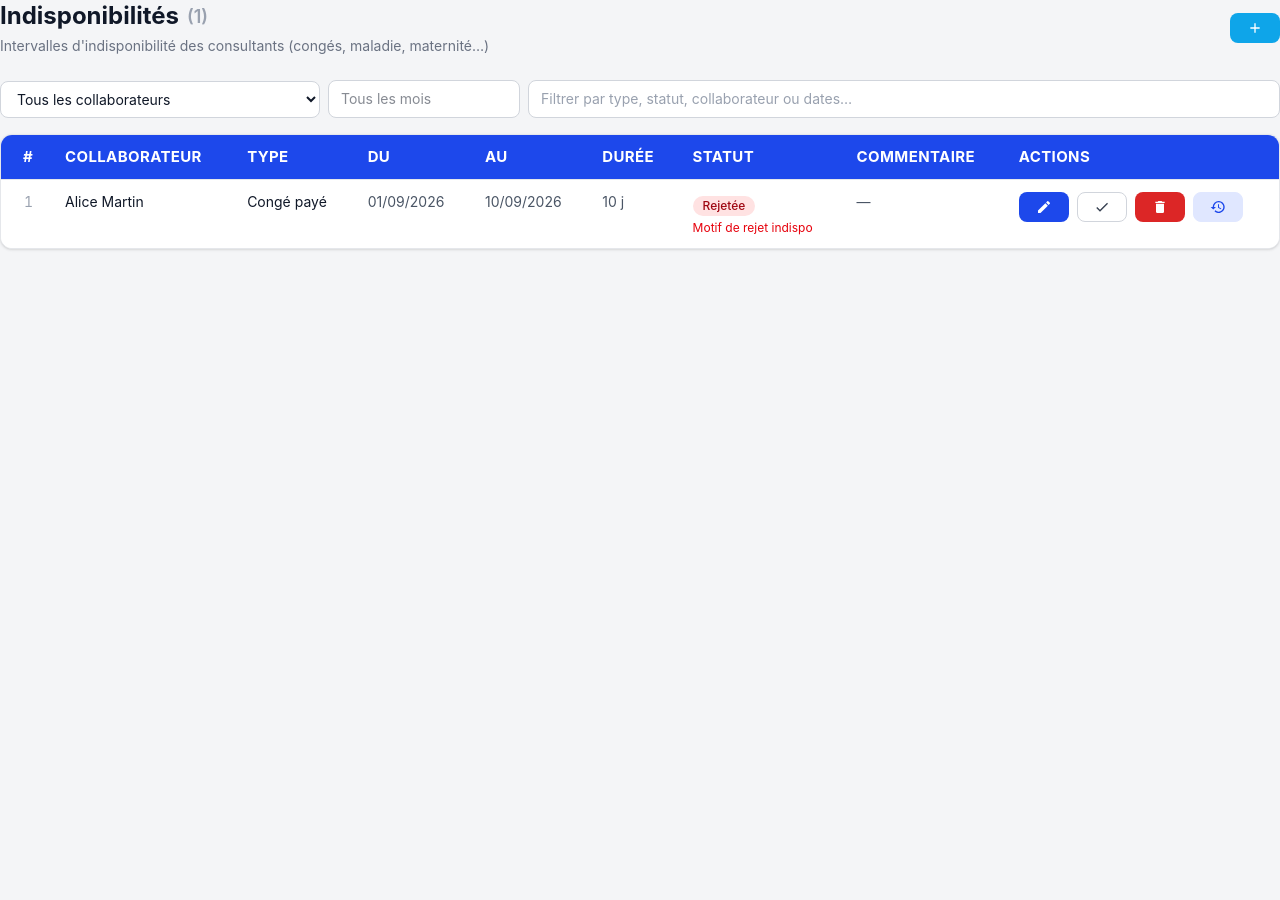
Test: Unavailability › affiche le motif de rejet lorsqu’on ouvre une indisponibilité rejetée
The width and height of the screenshot is (1280, 900).
What coordinates should you click on to do the following:
click the text "Alice Martin"
I would click on:
 (104, 201)
Its box is [49,180,231,248].
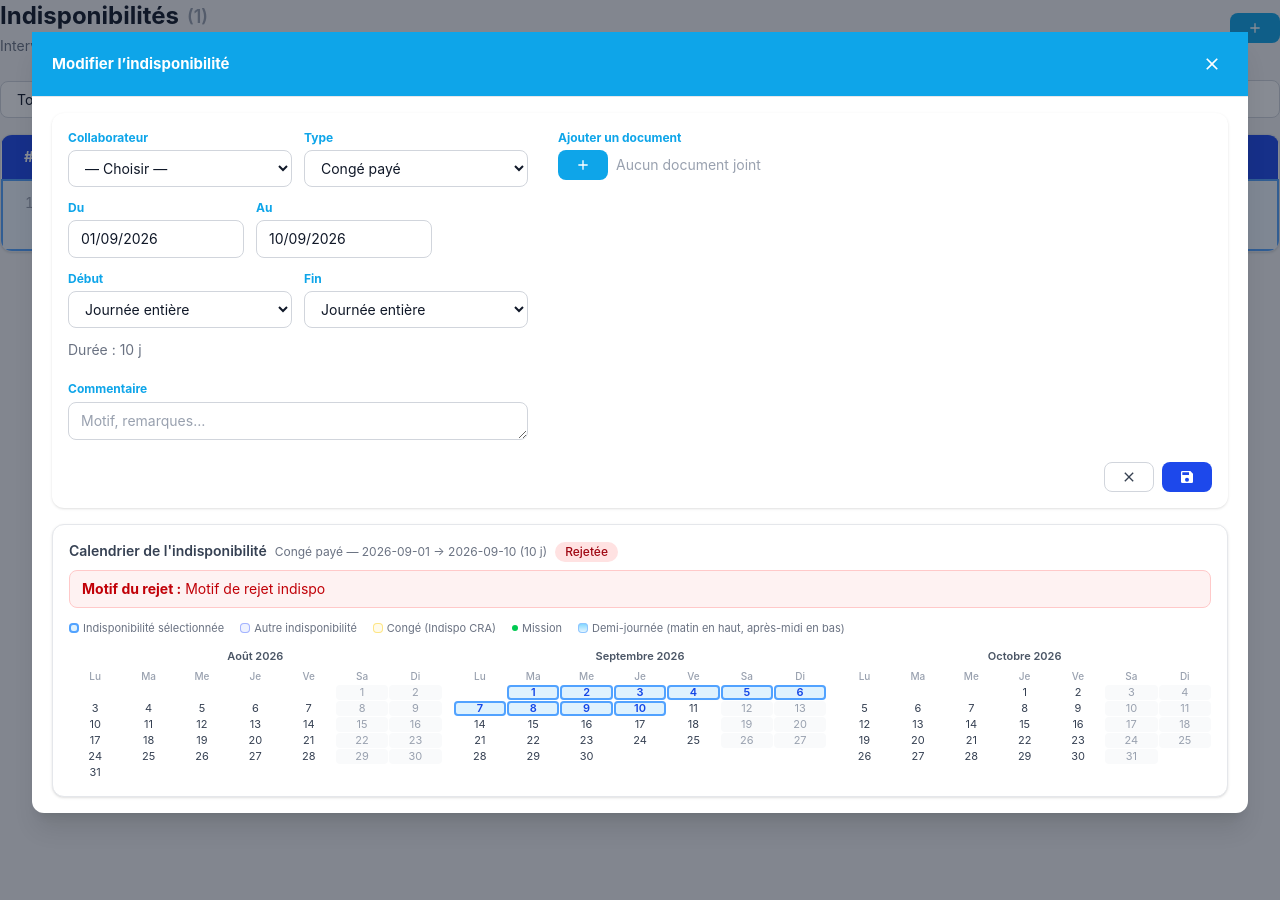
Expected: the text "Calendrier de l'indisponibilité" is shown, [69,541,267,561]
